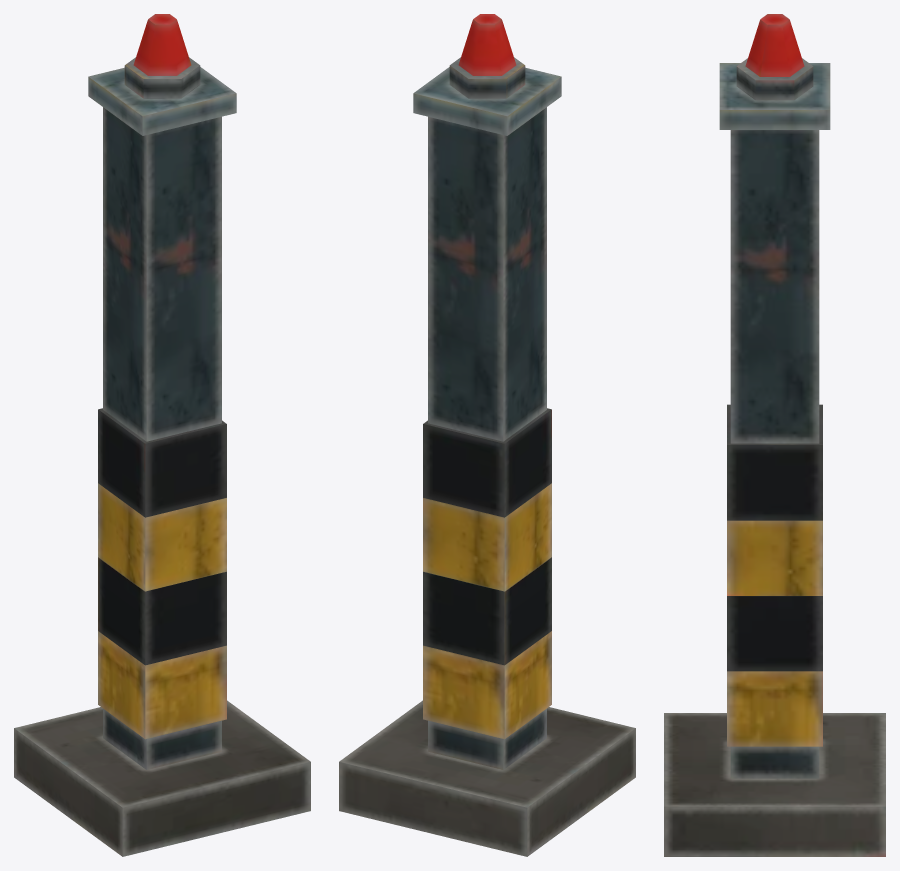
Rendered from fence_gate.glb.
3 views of the same model, side by side, from view 1: azimuth 30°, elevation 25°; view 2: azimuth 150°, elevation 25°; view 3: azimuth 270°, elevation 25° (orthographic). The views are drawn at different scales.
Visible parts, largest first — view 1: te_grounds_fence_gate; view 2: te_grounds_fence_gate; view 3: te_grounds_fence_gate.
Boxes of the visible parts, box(x1,y1,x2,y2) form: te_grounds_fence_gate: box(14, 14, 310, 856); te_grounds_fence_gate: box(339, 14, 635, 856); te_grounds_fence_gate: box(664, 14, 885, 856).
Bounding box in the file's own units: 0.12 × 0.472 × 0.12.
Materials: 1 (1 with a texture image).
